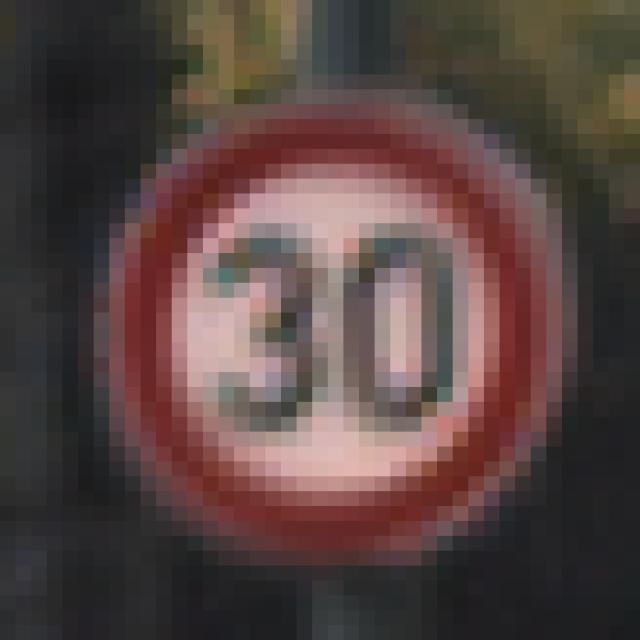Speed Limit -30-: (70, 81, 539, 544)
